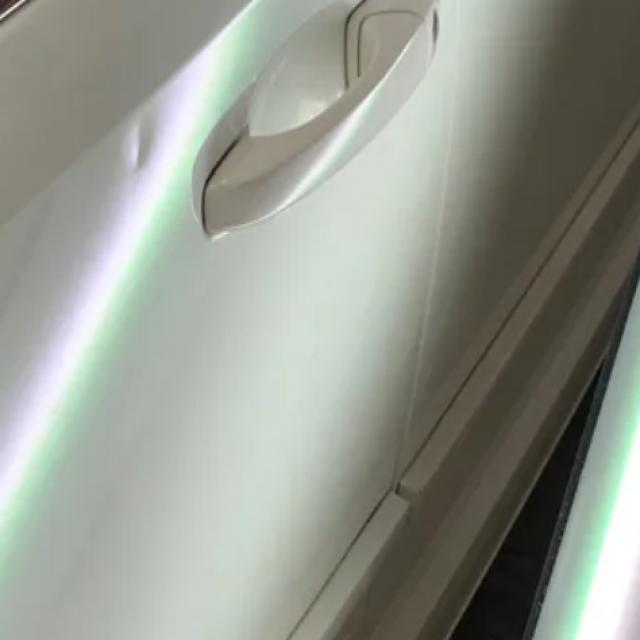dents: (118, 115, 176, 183)
